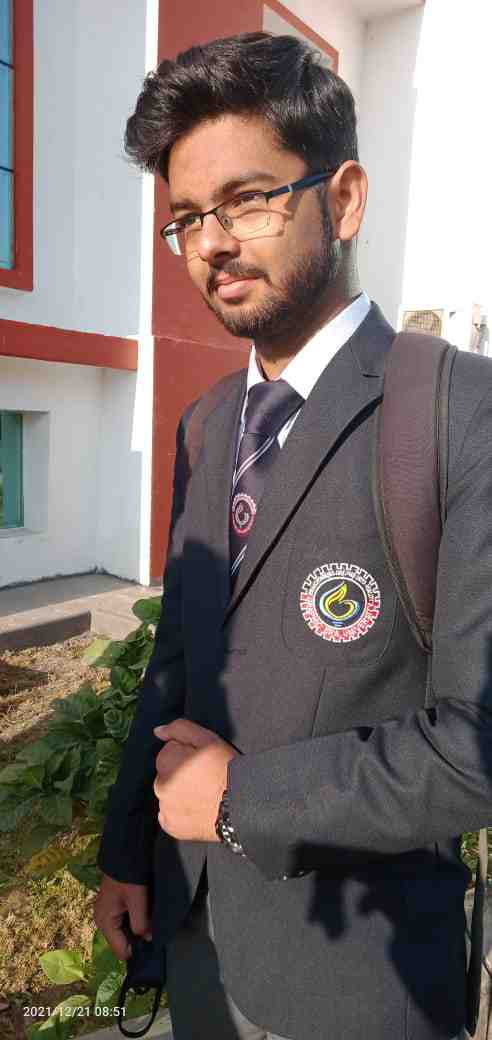blazer: (101, 334, 492, 1005)
tie: (222, 389, 309, 581)
